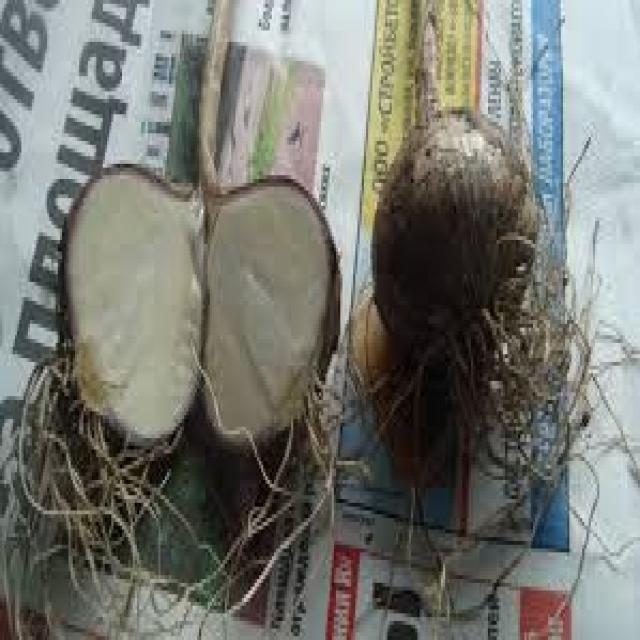Garlic: (40, 146, 224, 522), (376, 95, 547, 418), (201, 177, 355, 505)
